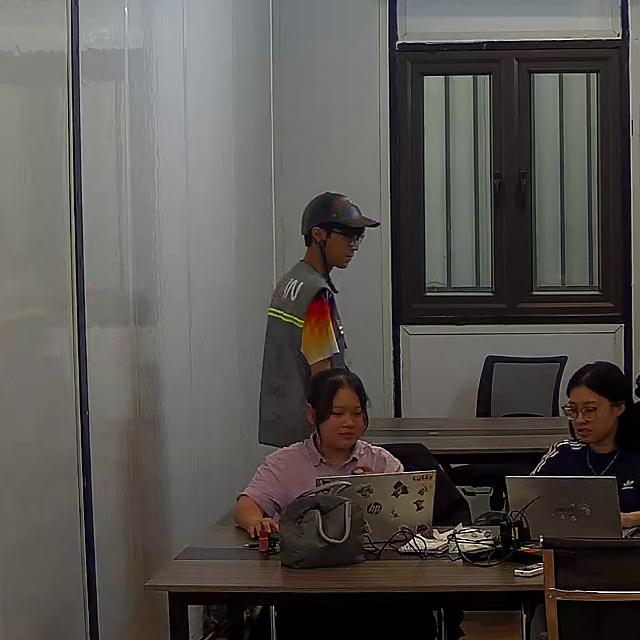helmet: (300, 191, 383, 237)
no_helmet: (306, 368, 370, 444), (564, 359, 633, 427)
none: (239, 435, 402, 521), (531, 437, 637, 519)
